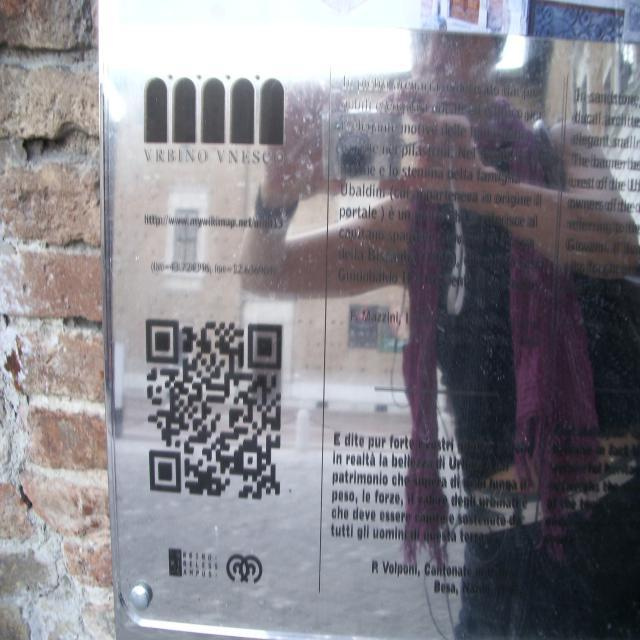qrcode: (147, 320, 282, 501)
